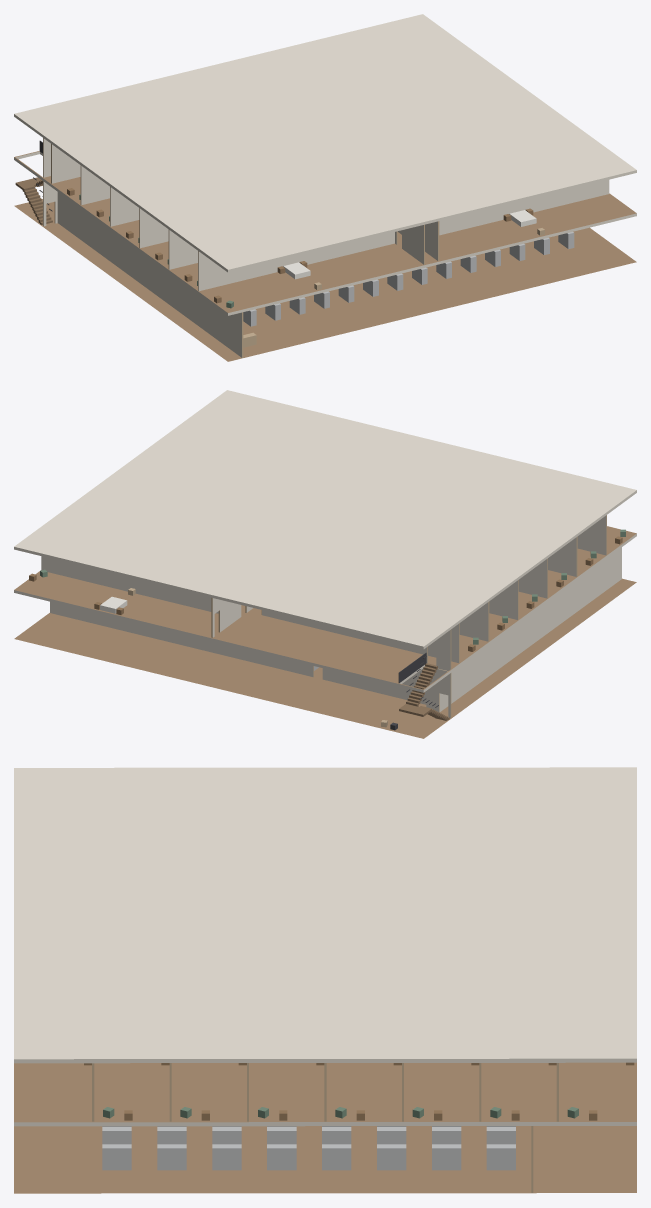
Rendered from interior.glb.
3 views of the same model, one above another, from view 1: azimuth 30°, elevation 25°; view 2: azimuth 150°, elevation 25°; view 3: azimuth 270°, elevation 25° (orthographic). The views are drawn at different scales.
Visible parts, largest first — view 1: slabs, partitions, coarse-s0, coarse-s1, stair; view 2: slabs, partitions, stair, coarse-s1; view 3: slabs, coarse-s0, coarse-s1, partitions.
Boxes of the visible parts, box(x1,y1,x2,y2) form: slabs: box(14, 14, 636, 361); partitions: box(43, 138, 609, 357); coarse-s0: box(243, 232, 574, 347); coarse-s1: box(67, 188, 544, 308); stair: box(15, 140, 52, 224); slabs: box(14, 390, 636, 738); partitions: box(41, 515, 621, 718); stair: box(398, 652, 449, 720); coarse-s1: box(29, 529, 625, 651); slabs: box(14, 767, 636, 1193); coarse-s0: box(102, 1126, 515, 1170); coarse-s1: box(84, 1062, 634, 1120); partitions: box(92, 1063, 558, 1192).
Size of the model in its own units: 40.24 by 8.66 by 36.31.
